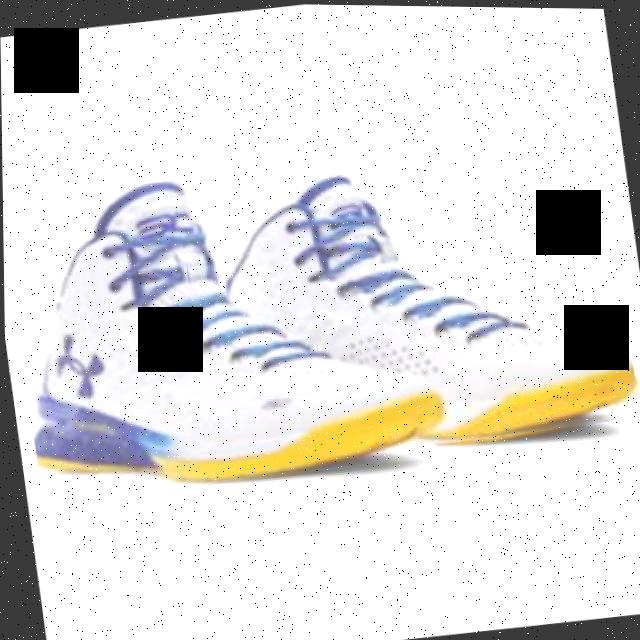shoe: (2, 149, 446, 507), (174, 141, 640, 477)
